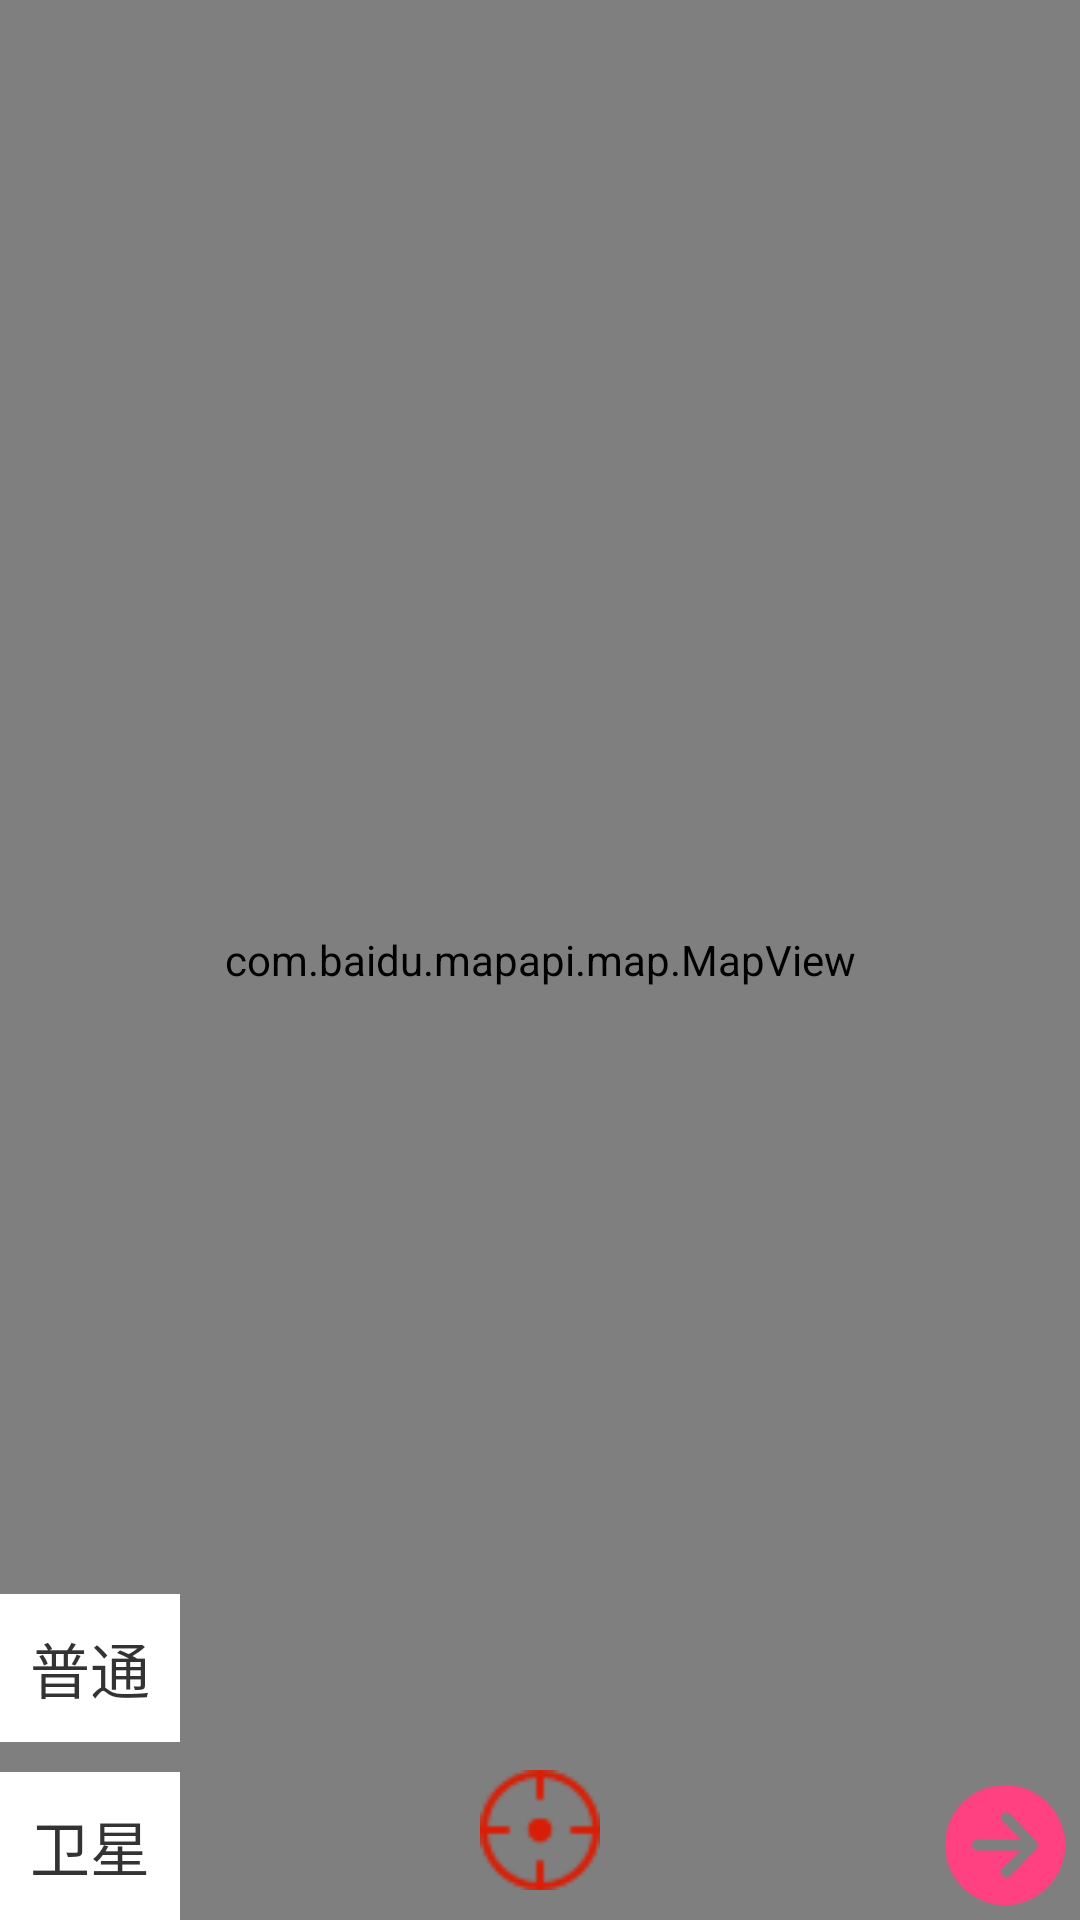

Screen size 1080 × 1920. Icon name, then its box in pixels as {"left": x1, "top": y1, "right": x2, "bottom": y2}:
begin: {"left": 945, "top": 1785, "right": 1065, "bottom": 1905}
position: {"left": 480, "top": 1770, "right": 600, "bottom": 1890}
